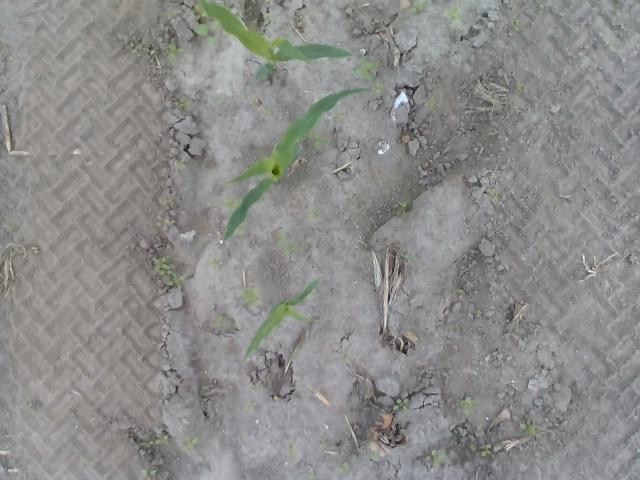Maize: (223, 86, 371, 243), (200, 0, 352, 83), (243, 276, 320, 361)
Weeds: (152, 252, 182, 284), (192, 12, 218, 44), (352, 54, 377, 80), (274, 227, 296, 256), (138, 432, 170, 450), (167, 41, 188, 65), (240, 286, 258, 306), (312, 132, 331, 150), (524, 421, 544, 438), (432, 448, 446, 472), (180, 436, 198, 453), (391, 396, 410, 412), (464, 396, 478, 416), (127, 38, 144, 54), (410, 0, 427, 15), (171, 96, 192, 108), (210, 255, 224, 273), (394, 200, 408, 216), (447, 6, 462, 20), (141, 468, 160, 479), (478, 444, 494, 457), (308, 208, 322, 222), (509, 18, 522, 33), (208, 93, 224, 105), (422, 98, 438, 110), (160, 215, 170, 232), (244, 400, 256, 414), (488, 187, 500, 201), (224, 198, 240, 208), (399, 255, 418, 263), (217, 312, 227, 327), (369, 451, 381, 463), (175, 159, 188, 168), (375, 82, 385, 93), (339, 462, 348, 474), (471, 308, 482, 317)
